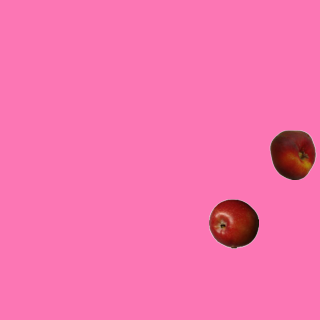Apple Braeburn: (208, 198, 258, 248)
Nectarine Flat: (267, 129, 317, 179)
